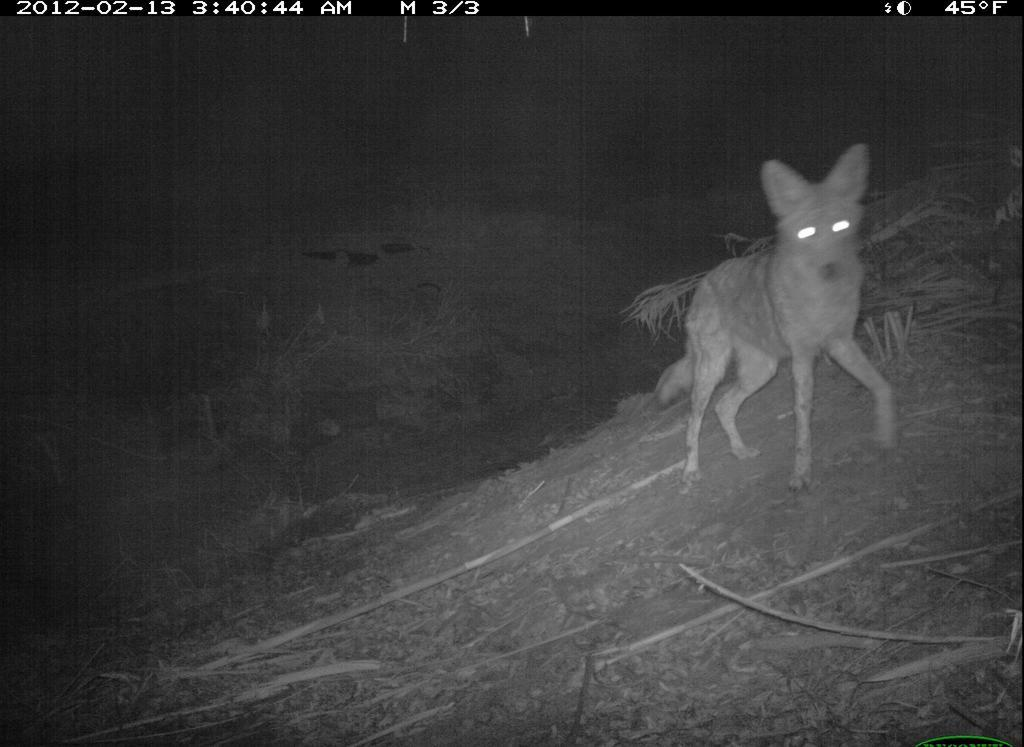coyote: (647, 134, 916, 506)
